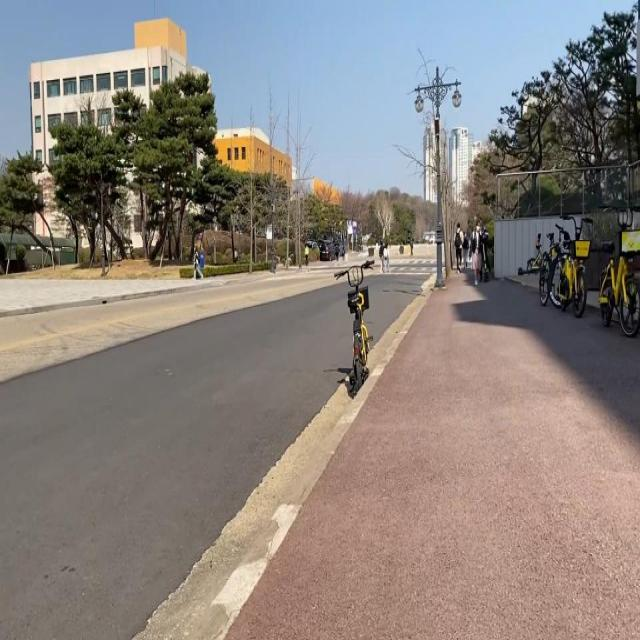sidewalk: (184, 267, 640, 640), (0, 267, 309, 310), (309, 260, 338, 265)
